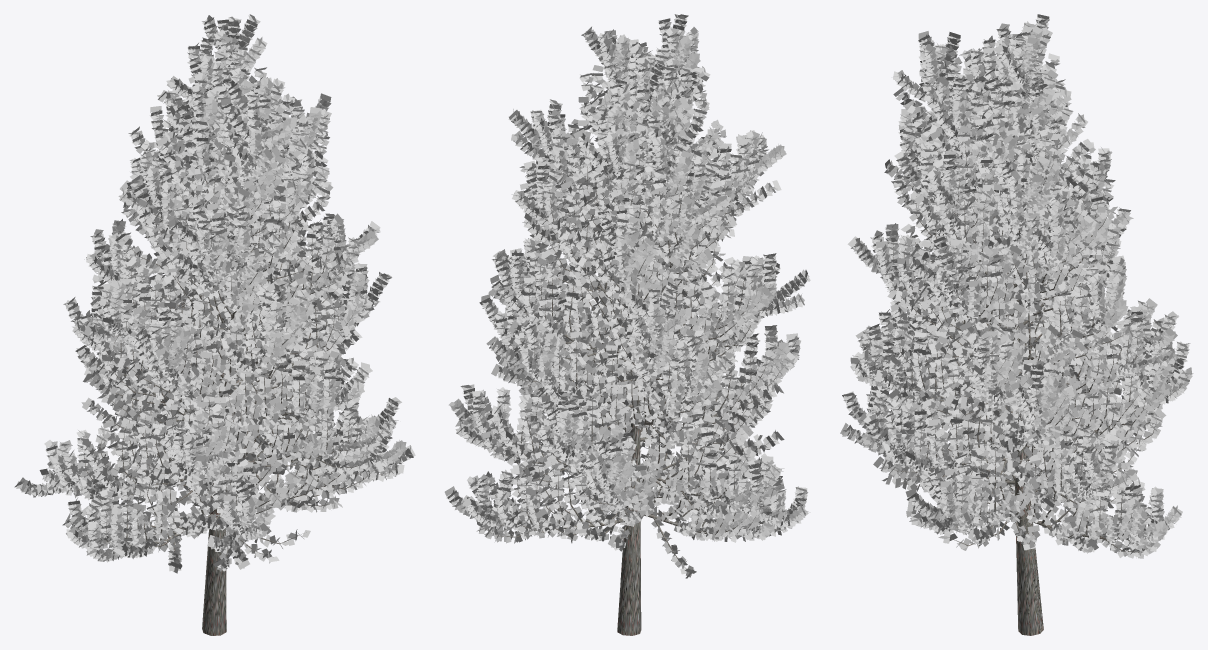
File: Baum 4.fbx
3 views of the same model, side by side, from view 1: azimuth 30°, elevation 25°; view 2: azimuth 150°, elevation 25°; view 3: azimuth 270°, elevation 25° (orthographic). The views are drawn at different scales.
Visible parts, largest first — view 1: leaves, tree; view 2: leaves, tree; view 3: leaves, tree.
Boxes of the visible parts, x1,y1,x2,y2 form: leaves: [14, 14, 415, 573]; tree: [54, 102, 387, 635]; leaves: [444, 14, 810, 578]; tree: [468, 63, 797, 635]; leaves: [840, 14, 1193, 558]; tree: [849, 66, 1182, 635].
Size of the model in its own units: 11.12 by 19.4 by 10.07.
